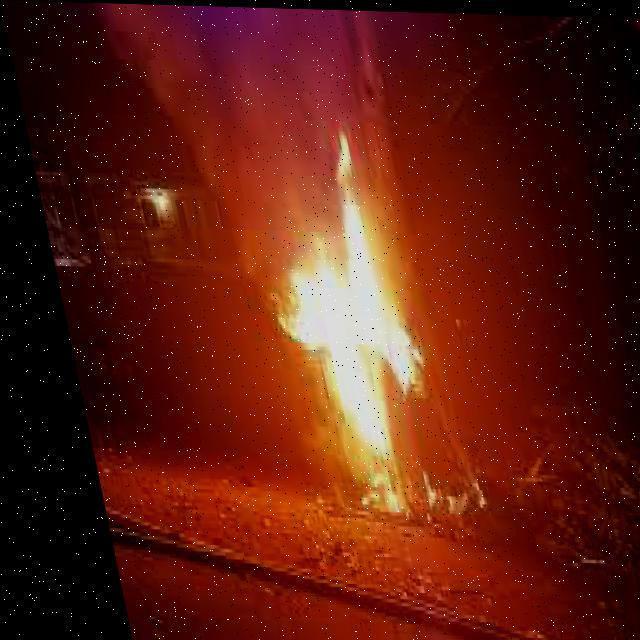Fire: (224, 124, 476, 516)
